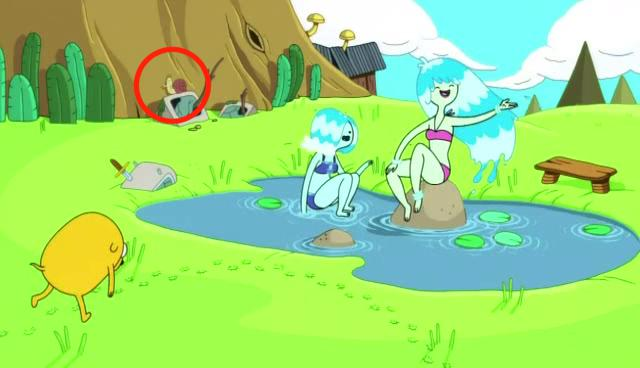snail: (159, 73, 189, 97)
